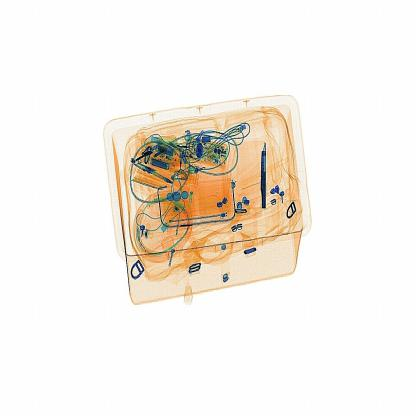pliers: (256, 142, 272, 217)
